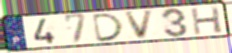3: (160, 7, 189, 39)
4: (33, 17, 59, 46)
7: (63, 12, 88, 46)
D: (91, 12, 126, 43)
H: (189, 6, 224, 36)
V: (123, 8, 156, 41)
